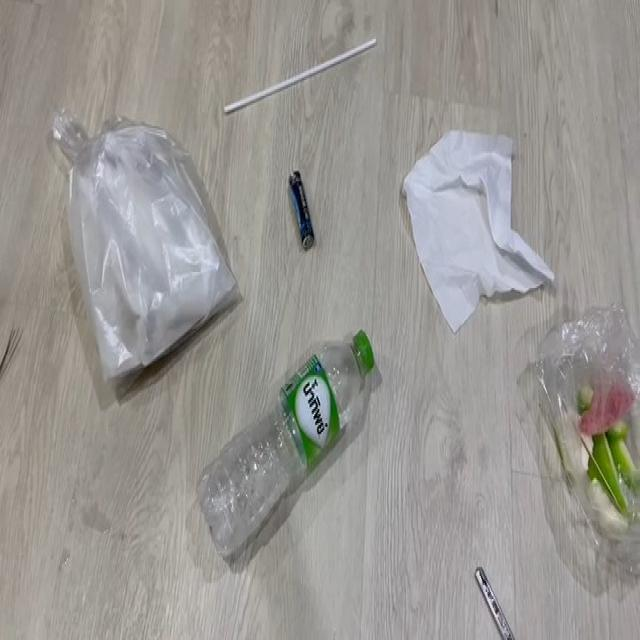Anorganik: (51, 106, 220, 363), (208, 334, 406, 534), (404, 98, 542, 322), (226, 44, 387, 109), (471, 546, 533, 640)
B3: (535, 319, 640, 559), (1, 300, 34, 432), (288, 155, 322, 260)
